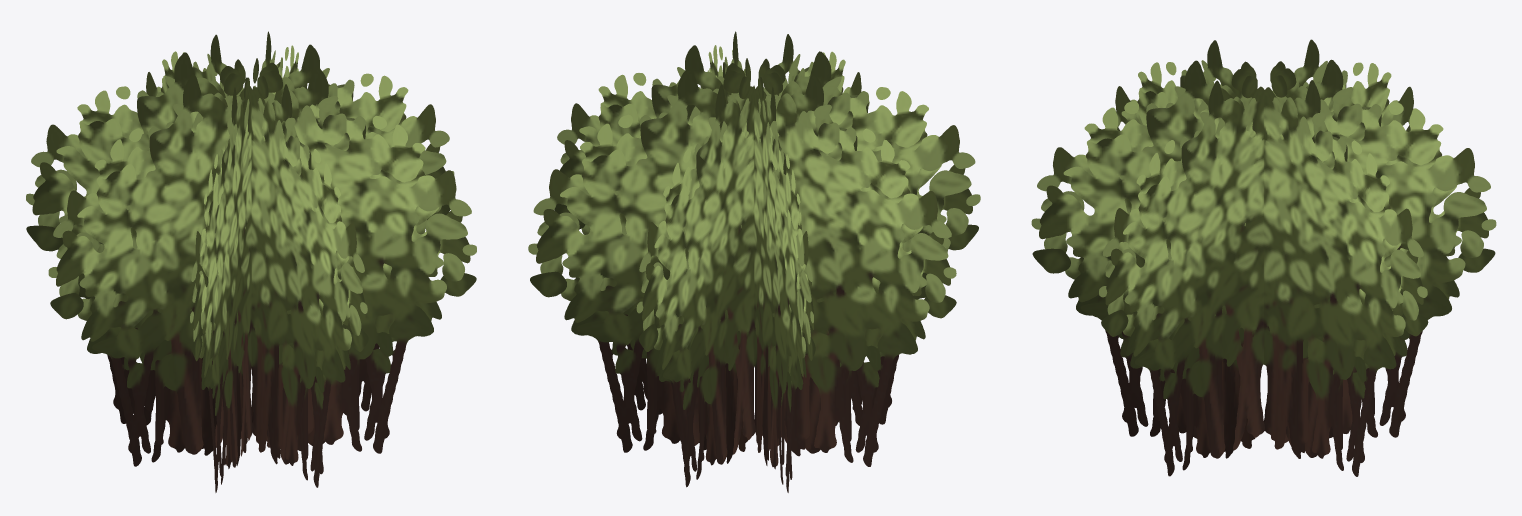
File: painted-bush-014.glb
3 renders of one model, left to right at view 1: azimuth 30°, elevation 25°; view 2: azimuth 150°, elevation 25°; view 3: azimuth 270°, elevation 25°, orthographic.
Size of the model in its own units: 10.08 by 9.27 by 10.08.
1 material, 1 textured.
